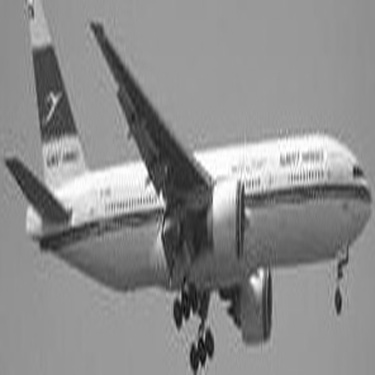airplane: (7, 4, 369, 370)
